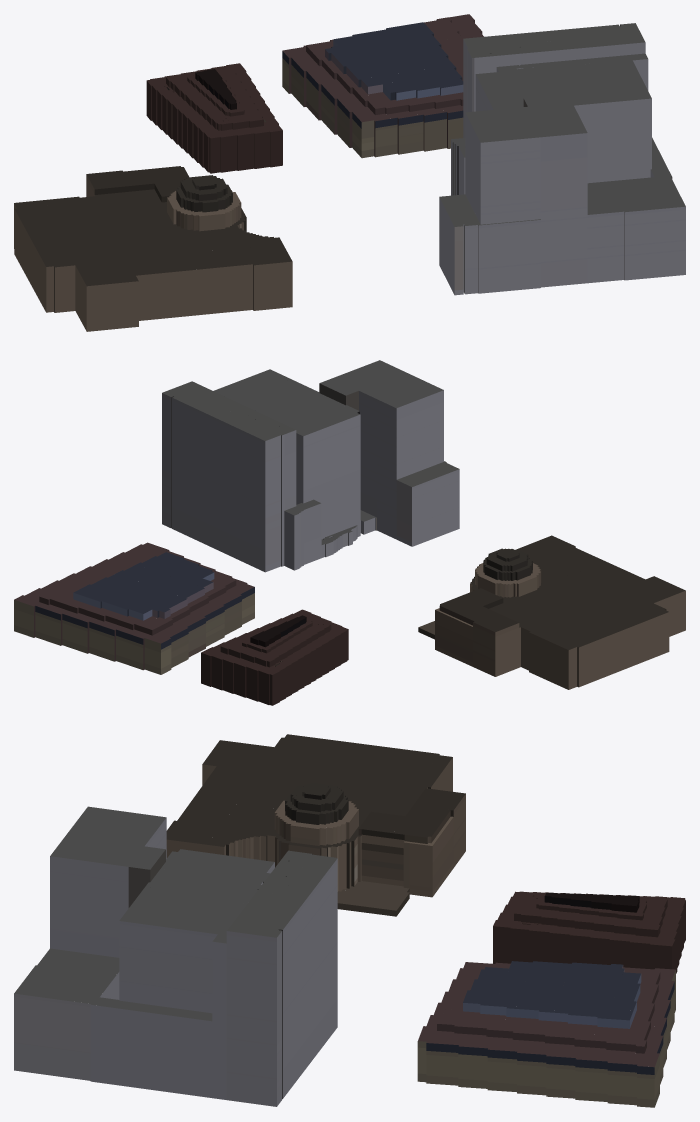
Rendered from t_0_2.far.glb.
The picture shows the model from 3 angles, top to bottom: view 1: azimuth 30°, elevation 25°; view 2: azimuth 150°, elevation 25°; view 3: azimuth 270°, elevation 25°; orthographic projection. The views are drawn at different scales.
Visible parts, largest first — view 1: opaque; view 2: opaque; view 3: opaque.
Boxes of the visible parts, bbox=[...] form: opaque: bbox=[14, 14, 685, 331]; opaque: bbox=[14, 360, 685, 705]; opaque: bbox=[14, 734, 685, 1107].
Size of the model in its own units: 254 by 62.05 by 223.
Materials: 1 (1 with a texture image).
